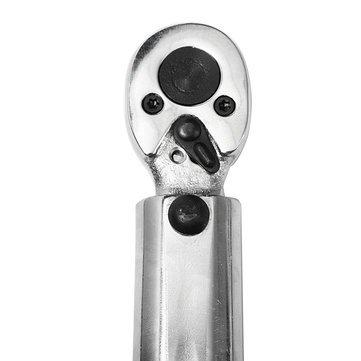Tool: (125, 19, 255, 200)
